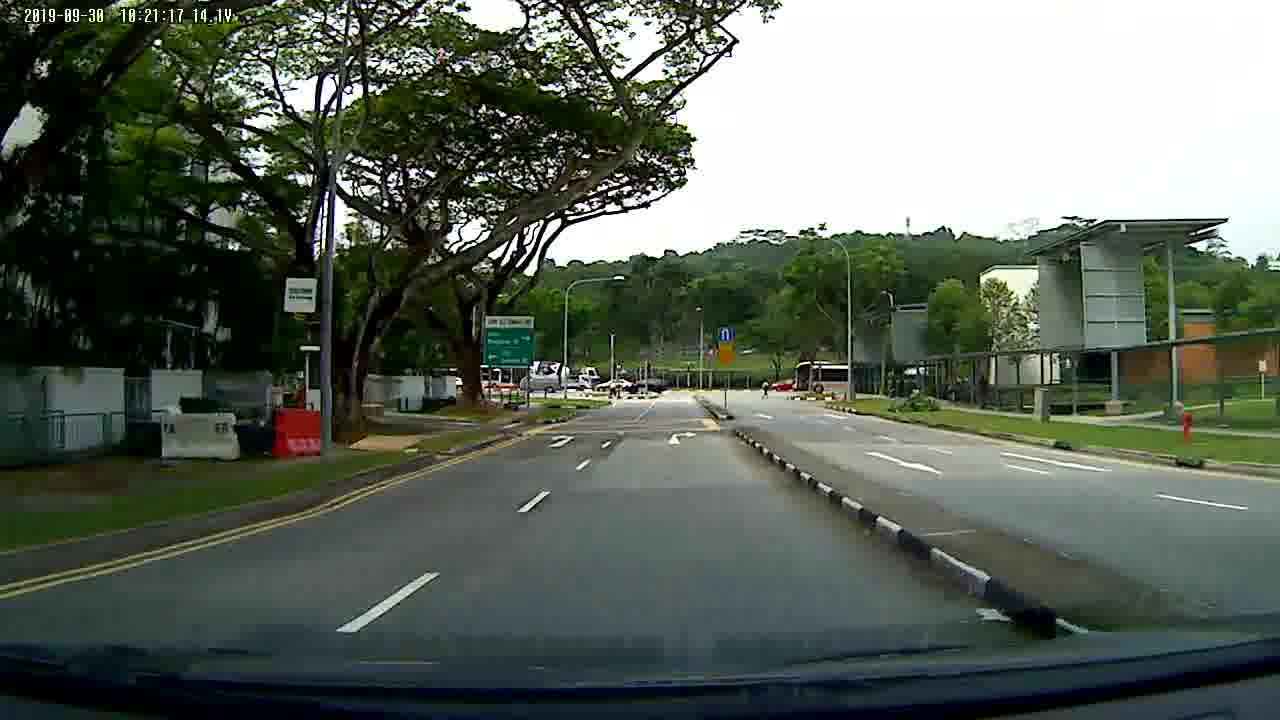bus: (795, 360, 848, 396)
car: (594, 377, 633, 394)
